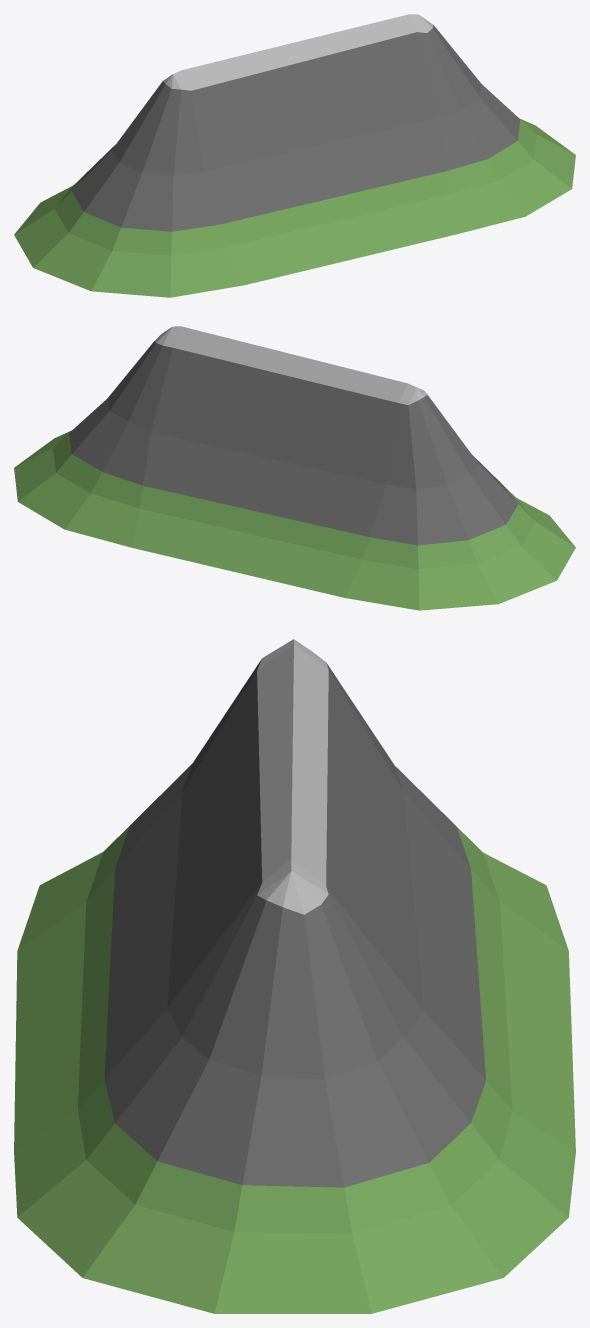
File: Mountain_2.fbx
3 views of the same model, one above another, from view 1: azimuth 30°, elevation 25°; view 2: azimuth 150°, elevation 25°; view 3: azimuth 270°, elevation 25° (orthographic). The views are drawn at different scales.
Visible parts, largest first — view 1: Mountain_2; view 2: Mountain_2; view 3: Mountain_2.
Part boxes in pixels (<box>): Mountain_2: <box>14,14,575,297</box>; Mountain_2: <box>14,326,575,610</box>; Mountain_2: <box>14,639,575,1313</box>.
Bounding box in the file's own units: 6873 × 2038 × 3282.
